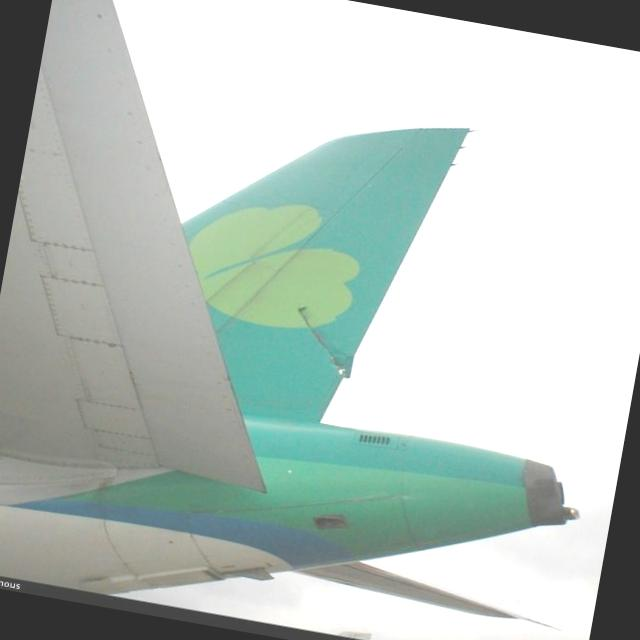crack: (296, 312, 356, 376)
